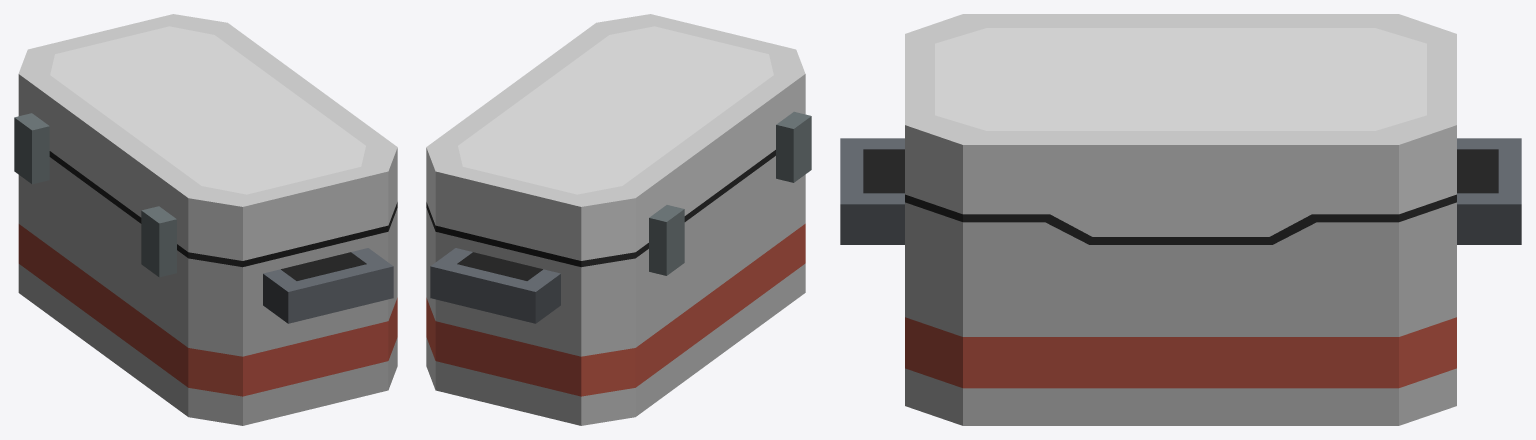
Rendered from SM_Prop_Crate_02.fbx.
The picture shows the model from 3 angles, left to right: view 1: azimuth 30°, elevation 25°; view 2: azimuth 150°, elevation 25°; view 3: azimuth 270°, elevation 25°; orthographic projection. The views are drawn at different scales.
Visible parts, largest first — view 1: SM_Prop_Crate_02; view 2: SM_Prop_Crate_02; view 3: SM_Prop_Crate_02.
Part boxes in pixels (bbox=[...]): SM_Prop_Crate_02: bbox=[14, 14, 397, 425]; SM_Prop_Crate_02: bbox=[426, 14, 811, 425]; SM_Prop_Crate_02: bbox=[840, 14, 1521, 425].
Size of the model in its own units: 1.31 by 1.21 by 2.66.
